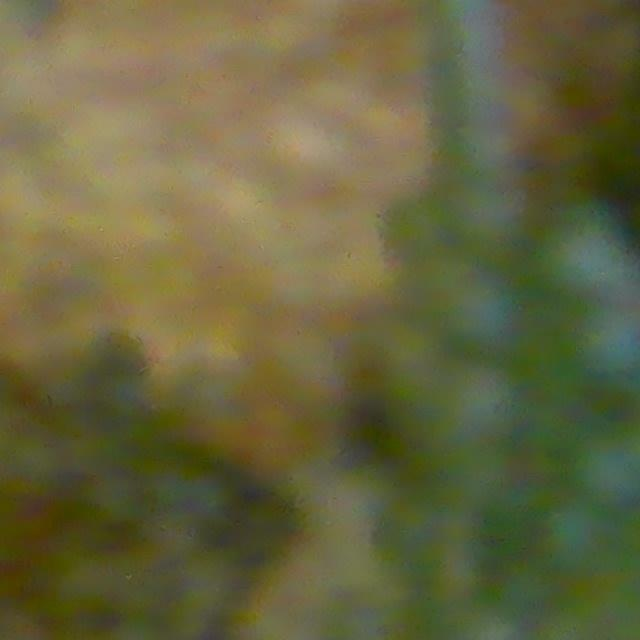SeaGrape: (534, 204, 640, 305), (428, 354, 531, 455), (440, 272, 525, 353), (539, 498, 612, 575), (573, 301, 640, 381)
